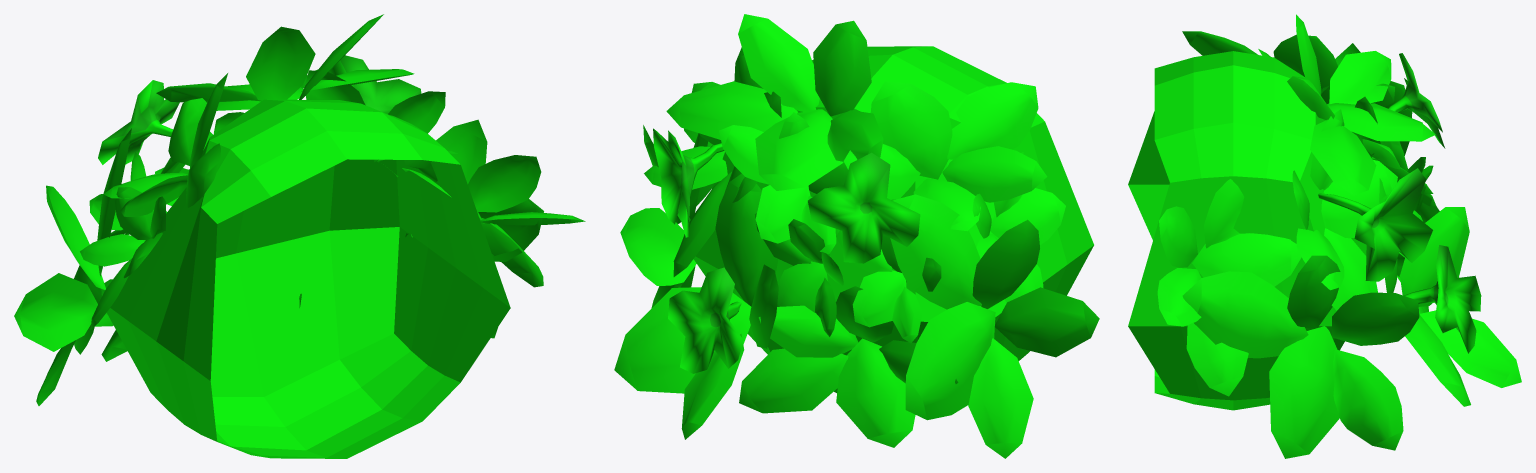
File: Bush.fbx
3 views of the same model, side by side, from view 1: azimuth 30°, elevation 25°; view 2: azimuth 150°, elevation 25°; view 3: azimuth 270°, elevation 25° (orthographic). The views are drawn at different scales.
Parts seen in each view (by area): view 1: A_RedFlower; view 2: A_RedFlower; view 3: A_RedFlower.
Boxes of the visible parts, x1,y1,x2,y2 form: A_RedFlower: [14, 14, 585, 458]; A_RedFlower: [614, 14, 1099, 458]; A_RedFlower: [1128, 14, 1521, 458].
Bounding box in the file's own units: 0.1794 × 0.1374 × 0.1272.
